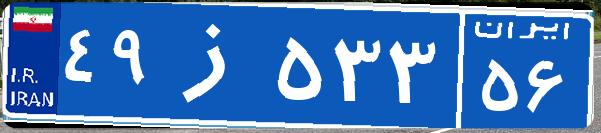3: (385, 28, 445, 110), (330, 28, 385, 110)
4: (57, 26, 110, 107)
5: (273, 28, 330, 110), (475, 38, 525, 113)
6: (525, 38, 570, 115)
9: (110, 28, 158, 105)
ز: (158, 15, 273, 115)
